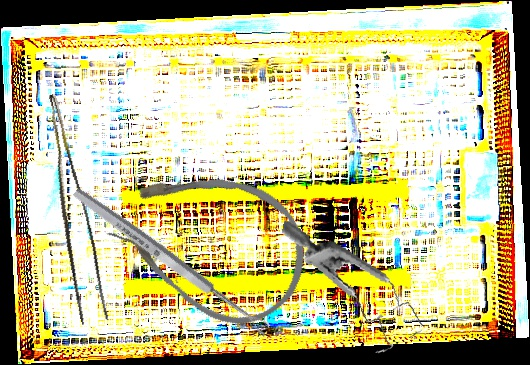Cannula: (91, 139, 327, 345)
Speculum: (262, 220, 438, 361)
Surgical Spoon: (70, 185, 272, 337)
Tissue Forceps: (22, 93, 116, 327)
